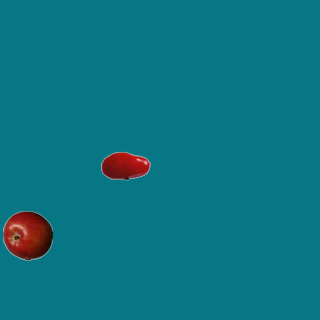Apple Braeburn: (2, 210, 52, 260)
Tomato 2: (100, 140, 150, 190)
